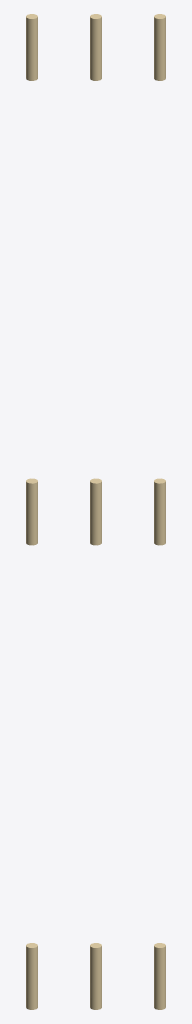
Rendered from SM_DoorHinge_Bath.fbx.
3 views of the same model, side by side, from view 1: azimuth 30°, elevation 25°; view 2: azimuth 210°, elevation 25°; view 3: azimuth 330°, elevation 25° (orthographic).
Parts seen in each view (by area): view 1: SM_DoorHinge_Bath; view 2: SM_DoorHinge_Bath; view 3: SM_DoorHinge_Bath.
Part boxes in pixels (left/top/right/bottom): SM_DoorHinge_Bath: left=26, top=14, right=37, bottom=1009; SM_DoorHinge_Bath: left=90, top=14, right=101, bottom=1009; SM_DoorHinge_Bath: left=154, top=14, right=165, bottom=1009.
Bounding box in the file's own units: 1.8 × 160 × 1.71.
